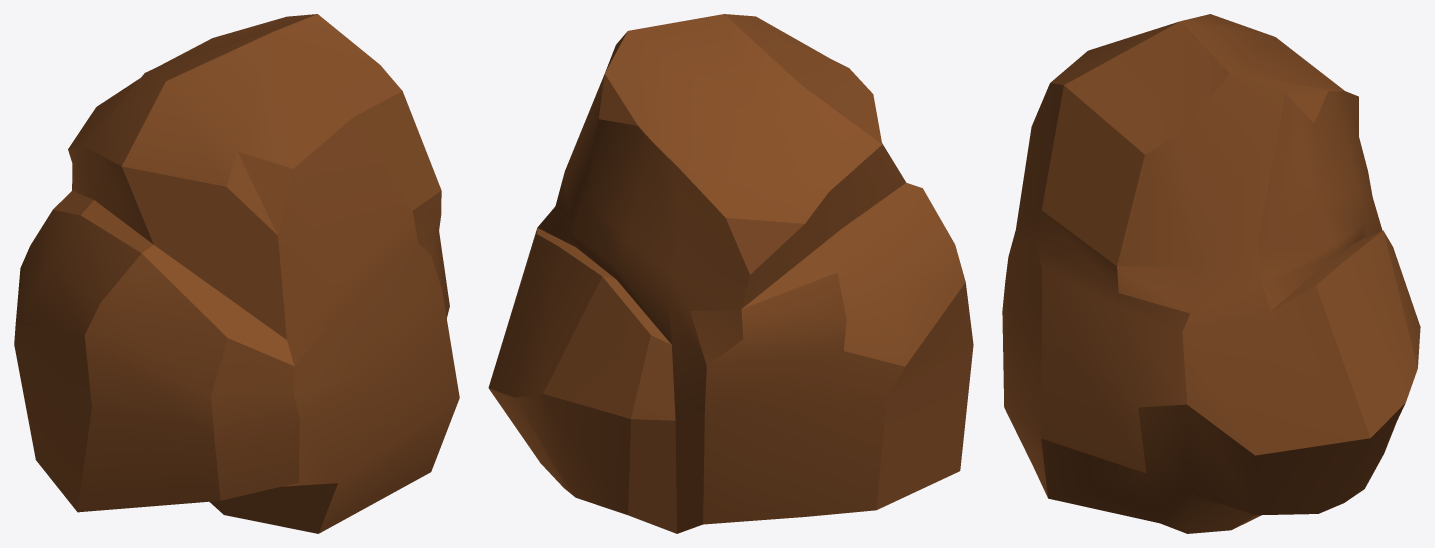
Rendered from Rock_1.glb.
The picture shows the model from 3 angles, left to right: view 1: azimuth 30°, elevation 25°; view 2: azimuth 150°, elevation 25°; view 3: azimuth 270°, elevation 25°; orthographic projection. The views are drawn at different scales.
Visible parts, largest first — view 1: Rock_1; view 2: Rock_1; view 3: Rock_1.
Boxes of the visible parts, left/top/right/bottom form: Rock_1: left=14, top=14, right=459, bottom=533; Rock_1: left=488, top=14, right=973, bottom=533; Rock_1: left=1002, top=14, right=1420, bottom=533.
Size of the model in its own units: 3.1 by 3.61 by 2.83.
Materials: 1 (1 with a texture image).
